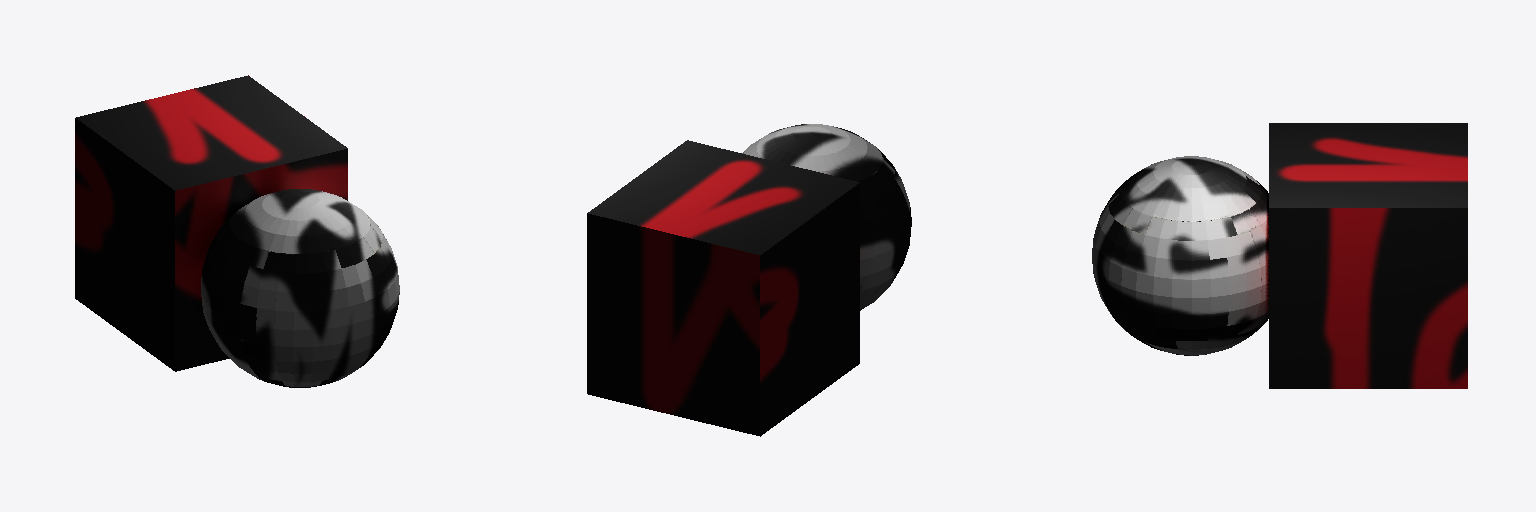
3 views of the same model, side by side, from view 1: azimuth 30°, elevation 25°; view 2: azimuth 150°, elevation 25°; view 3: azimuth 270°, elevation 25° (orthographic).
Visible parts, largest first — view 1: 立方体; view 2: 立方体; view 3: 立方体.
Boxes of the visible parts, x1=… form: 立方体: x1=75, y1=75, x2=399, y2=387; 立方体: x1=587, y1=124, x2=911, y2=436; 立方体: x1=1092, y1=123, x2=1467, y2=388.
Size of the model in its own units: 2 by 2 by 3.77.
1 materials, 1 textured.